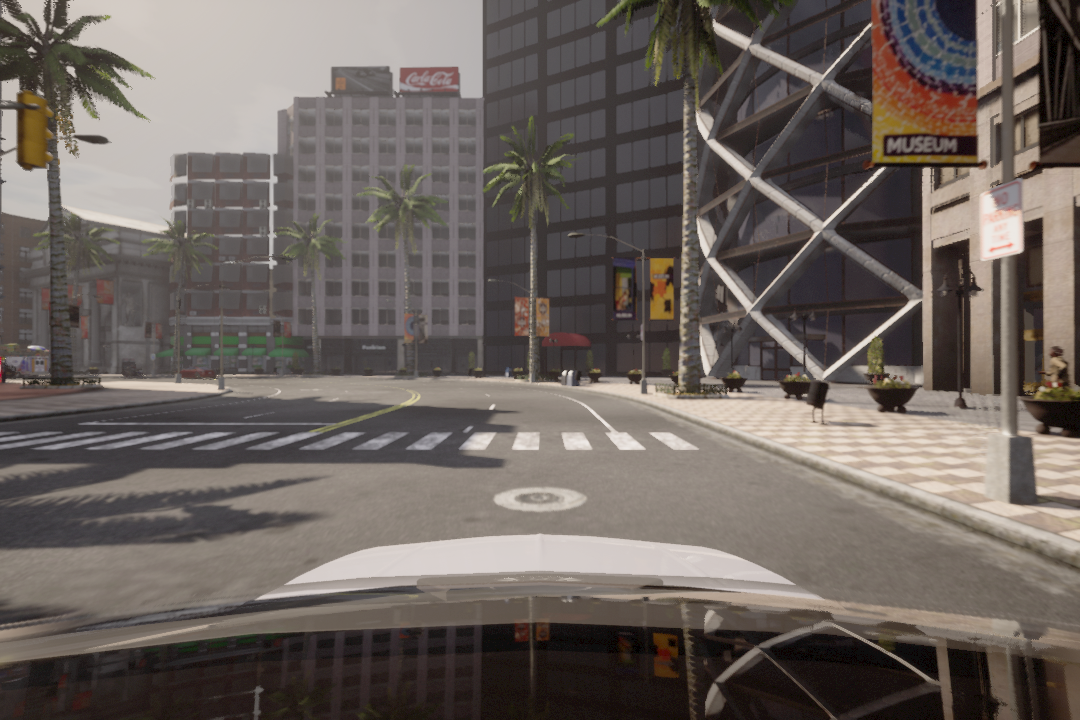walkside: (4, 422, 702, 461)
